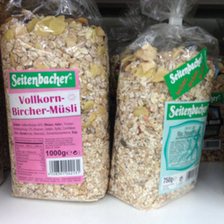cereal: (1, 19, 109, 201), (110, 43, 215, 210)
